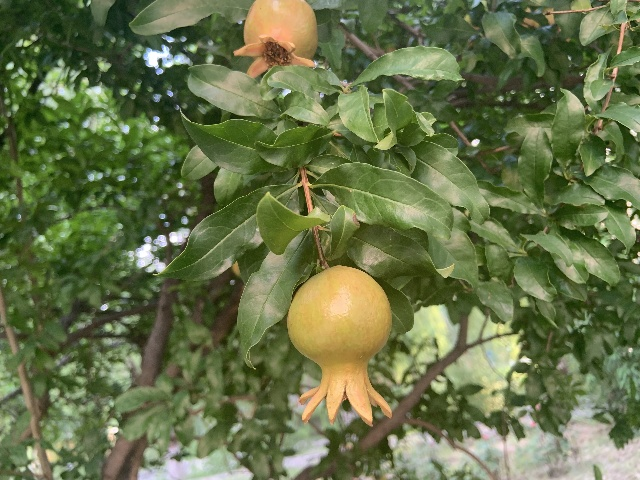mid-growth: (286, 266, 393, 427), (232, 0, 318, 77)
